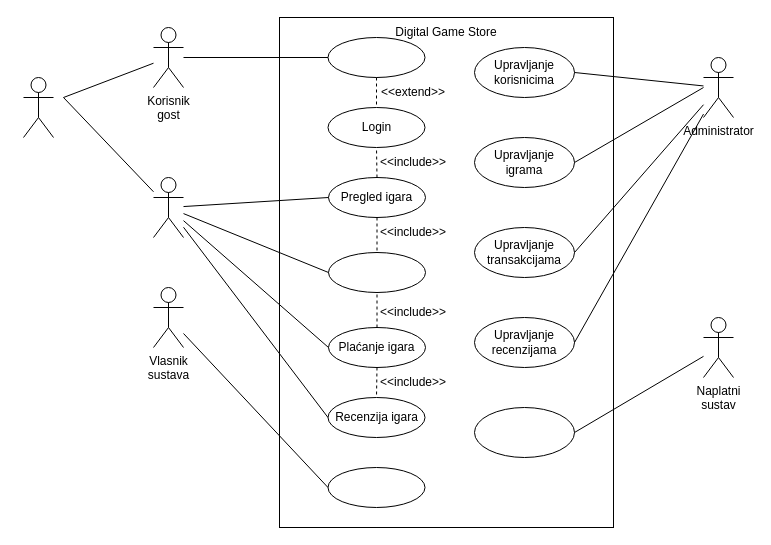
This 771x545 diagram has some shape labels left out. The shapes that lost their labels are listed below. From the top down, each one's box as (x1, y1, x2, y2) in pixels, then its label:
(327, 36, 425, 78): Registracija
(22, 76, 54, 138): Korisnik
(152, 176, 184, 238): Registrirani korisnik
(328, 252, 426, 292): Kupovina igara
(474, 406, 574, 458): Plaćanje
(327, 466, 425, 508): Pregled izvještaja
